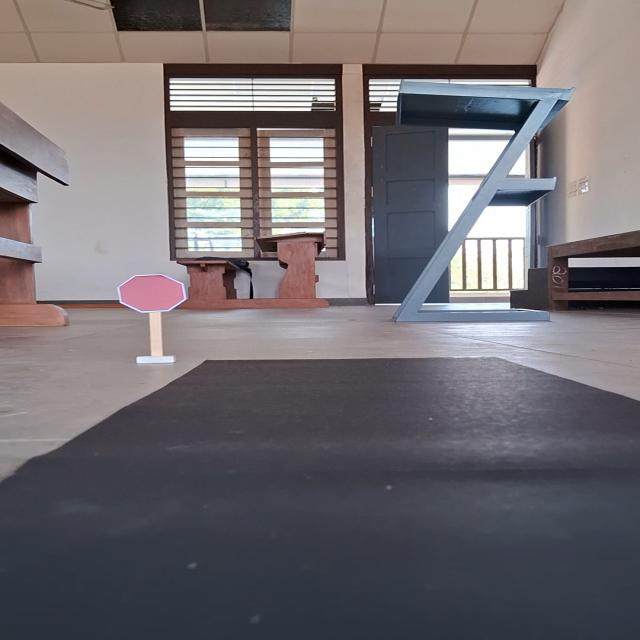Stop: (116, 273, 186, 313)
